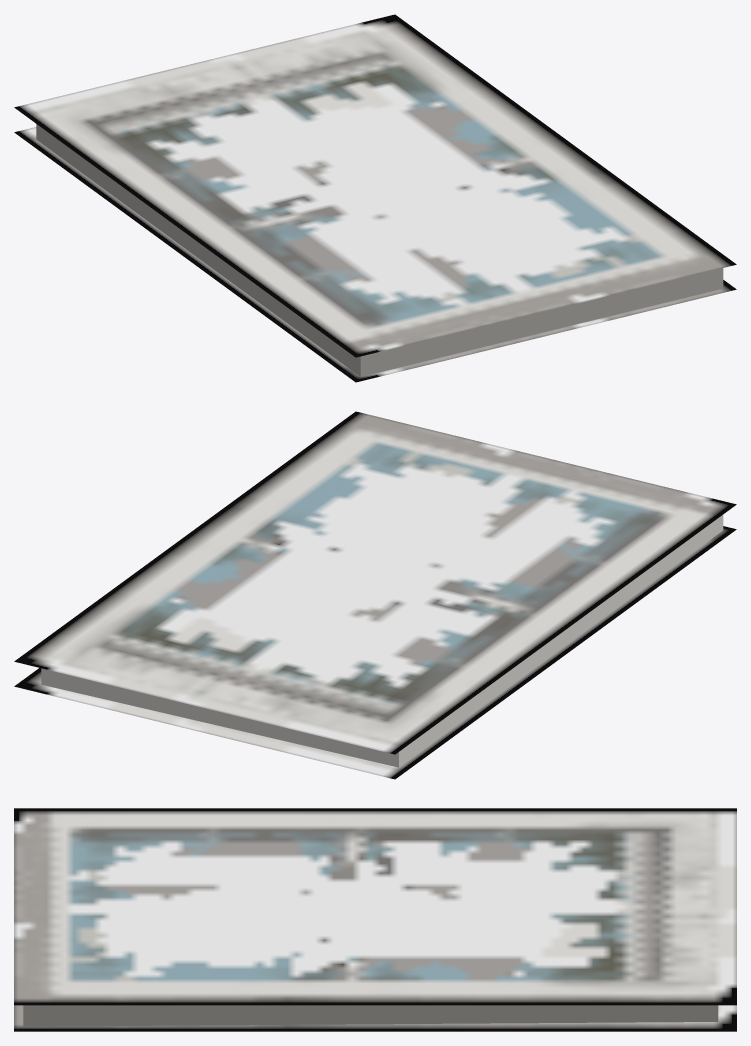
The model's file is pz_native_fixtures_windows_01_13_frame.obj.
The picture shows the model from 3 angles, top to bottom: view 1: azimuth 30°, elevation 25°; view 2: azimuth 150°, elevation 25°; view 3: azimuth 270°, elevation 25°; orthographic projection. The views are drawn at different scales.
Visible parts, largest first — view 1: pz_native_fixtures_windows_01_13_frame; view 2: pz_native_fixtures_windows_01_13_frame; view 3: pz_native_fixtures_windows_01_13_frame.
Boxes of the visible parts, x1,y1,x2,y2 form: pz_native_fixtures_windows_01_13_frame: (14,14,736,382); pz_native_fixtures_windows_01_13_frame: (14,411,736,779); pz_native_fixtures_windows_01_13_frame: (14,808,736,1031).
Bounding box in the file's own units: 0.6406 × 0.04 × 0.9951.
Materials: 1 (1 with a texture image).
